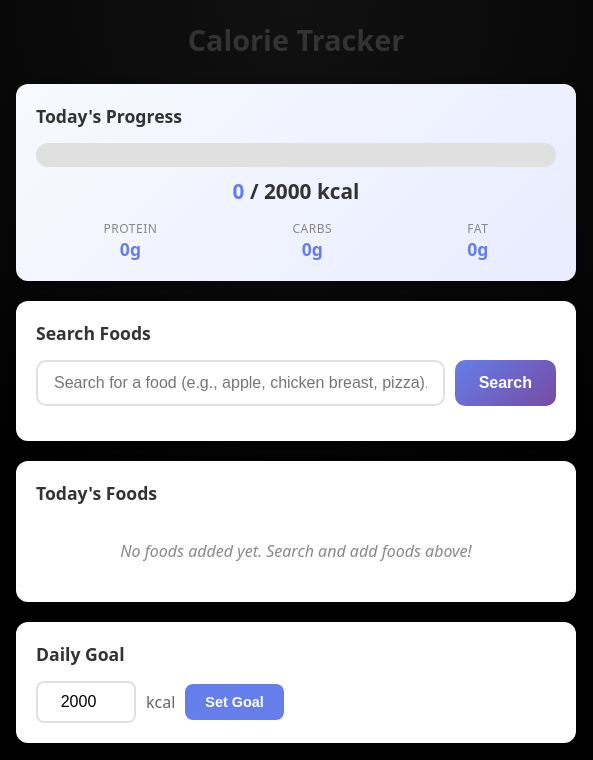
Test: CaloriesScreen › Daily Goal › allows setting a new daily goal
Replace the text in the number field showing "2000" with "2500" at (86, 702), box [36, 681, 136, 723]
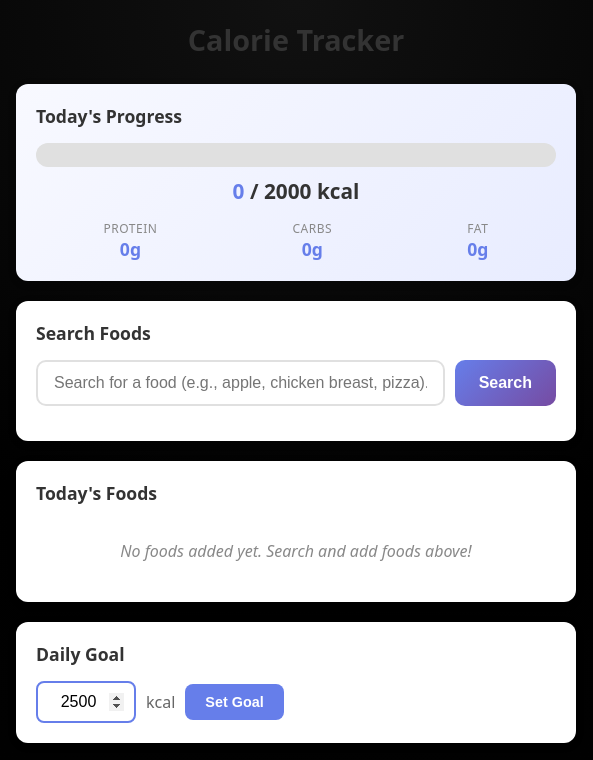
Click the button "Set Goal" at (234, 702), box [185, 684, 284, 720]
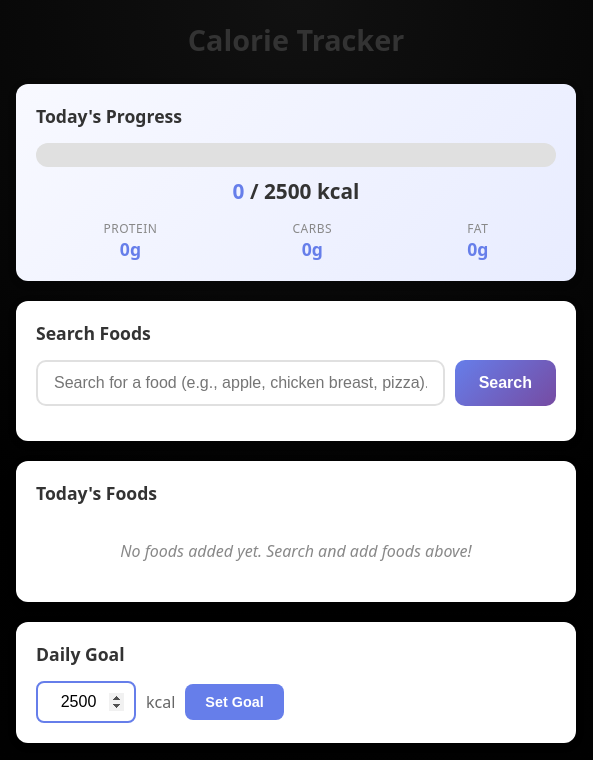
Expected: the text "2500" is shown, [264, 177, 312, 205]
